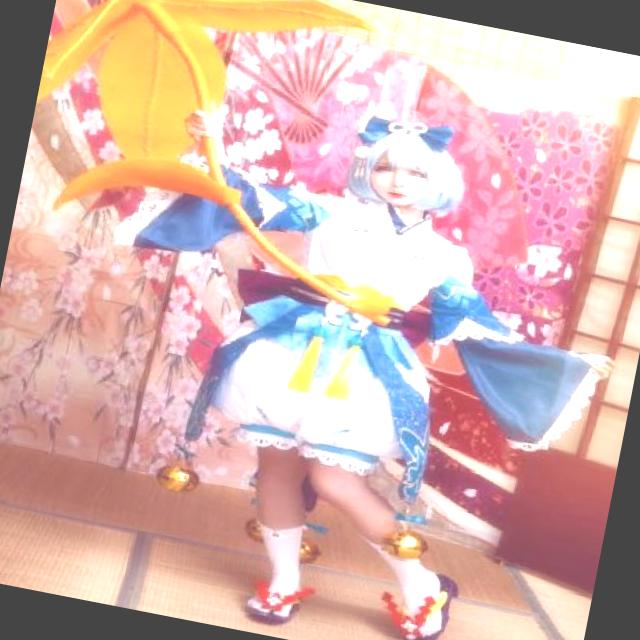Person: (91, 5, 616, 640)
